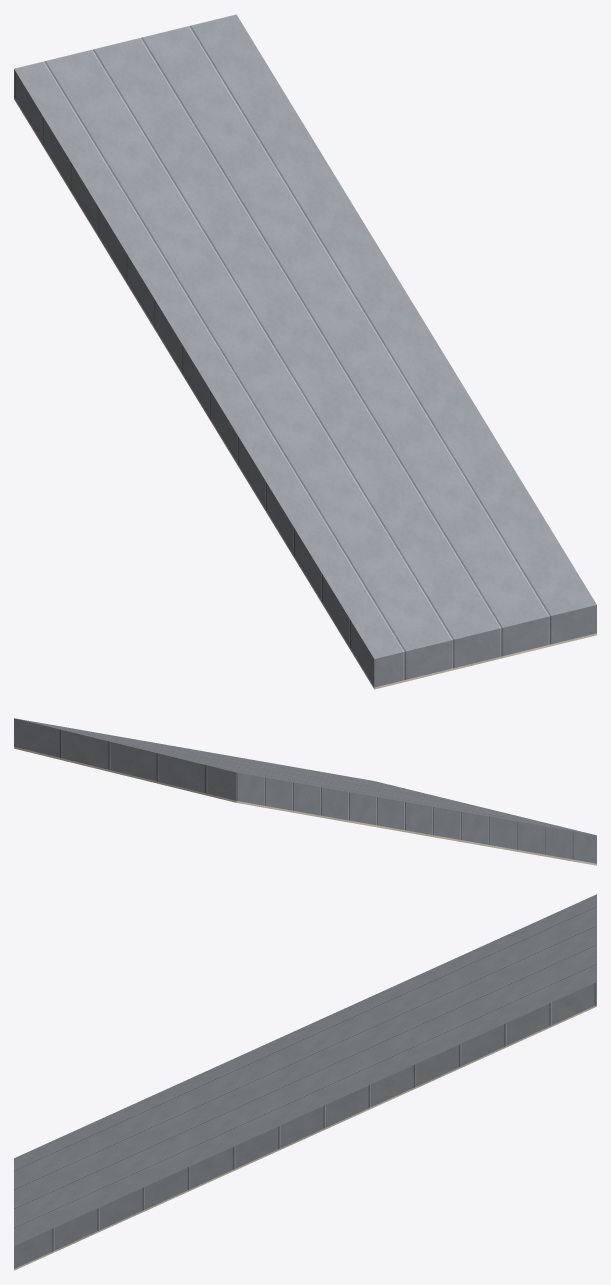
The model's file is hall_slope_end_l.glb.
The picture shows the model from 3 angles, top to bottom: view 1: azimuth 30°, elevation 25°; view 2: azimuth 150°, elevation 25°; view 3: azimuth 270°, elevation 25°; orthographic projection. The views are drawn at different scales.
Parts seen in each view (by area): view 1: hall_slope_end_l_metal_roof, hall_slope_end_l_plaster; view 2: hall_slope_end_l_metal_roof, hall_slope_end_l_plaster; view 3: hall_slope_end_l_metal_roof, hall_slope_end_l_plaster.
Boxes of the visible parts, x1,y1,x2,y2 form: hall_slope_end_l_metal_roof: (14, 14, 596, 687); hall_slope_end_l_plaster: (14, 97, 596, 689); hall_slope_end_l_metal_roof: (14, 718, 596, 863); hall_slope_end_l_plaster: (14, 746, 596, 865); hall_slope_end_l_metal_roof: (14, 894, 596, 1268); hall_slope_end_l_plaster: (14, 1005, 596, 1270).
Bounding box in the file's own units: 2.3 × 3.53 × 6.45.
2 materials, 2 textured.
